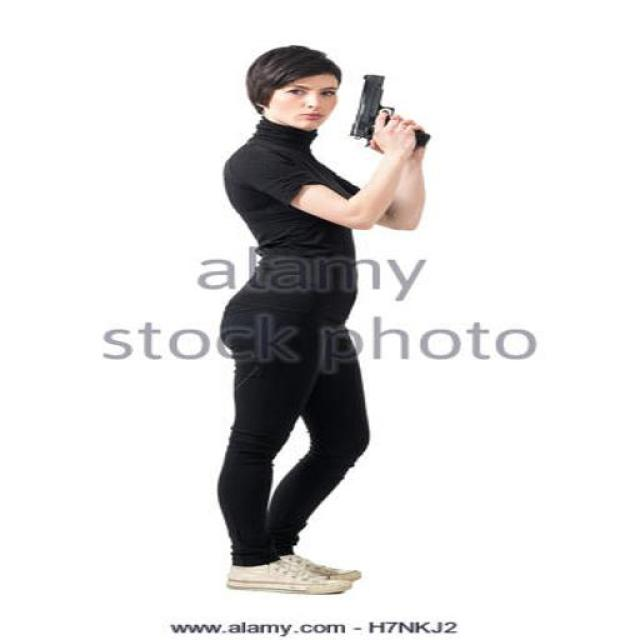pistol: (344, 72, 433, 150)
